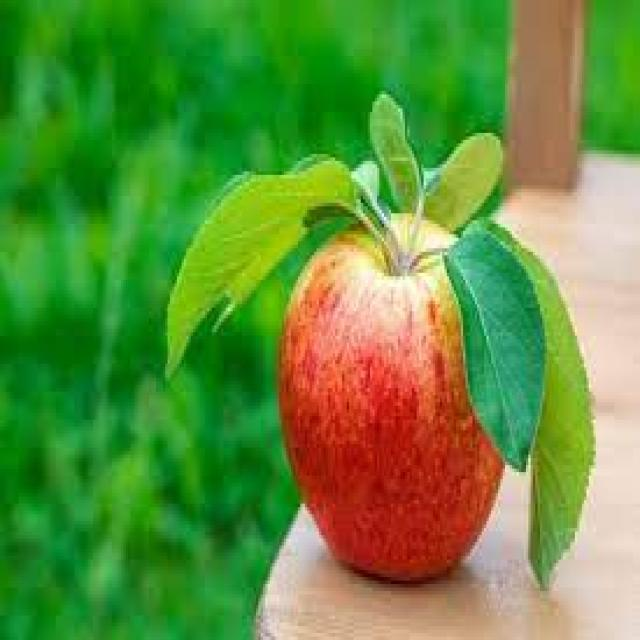apple: (272, 192, 534, 588)
